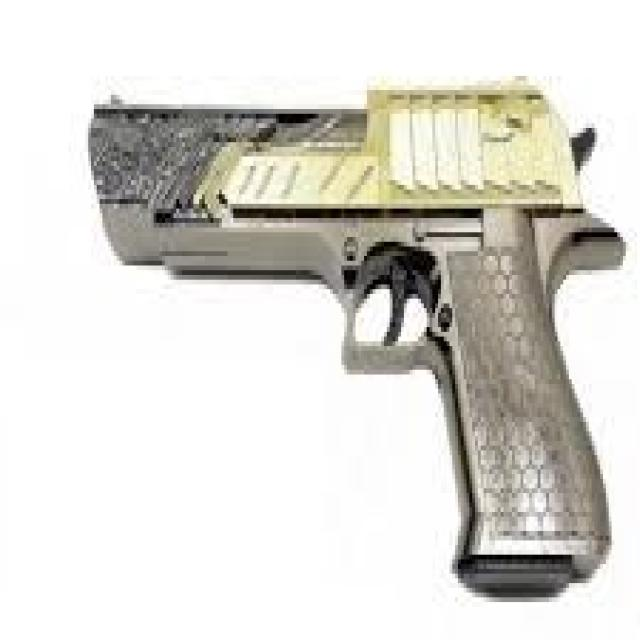pistol: (82, 65, 631, 614)
